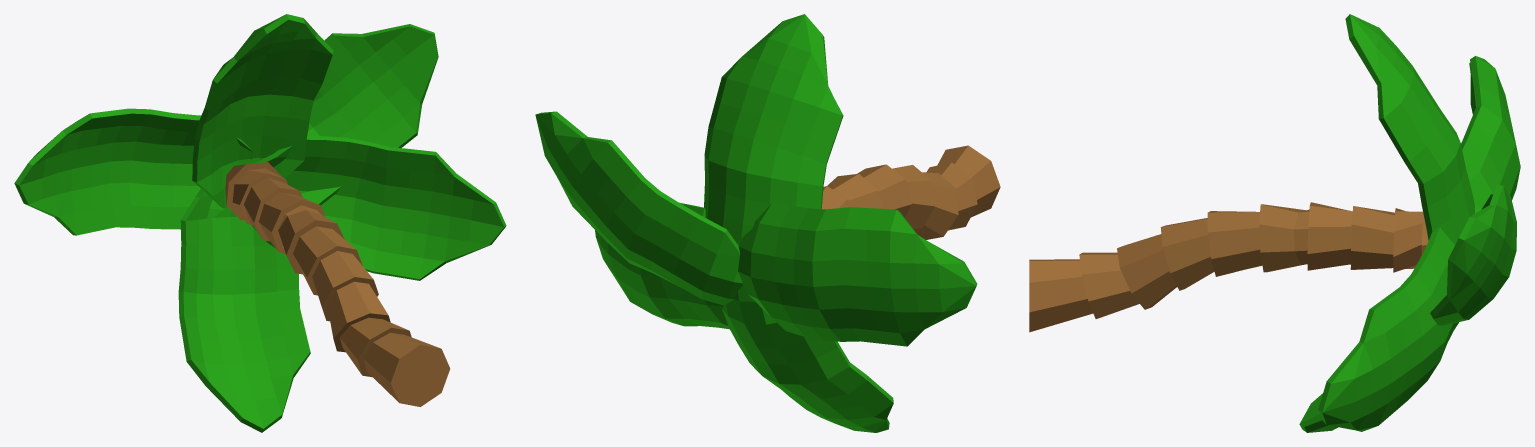
File: palmeira004.fbx
The picture shows the model from 3 angles, left to right: view 1: azimuth 30°, elevation 25°; view 2: azimuth 150°, elevation 25°; view 3: azimuth 270°, elevation 25°; orthographic projection. The views are drawn at different scales.
Parts seen in each view (by area): view 1: Folha; view 2: Folha; view 3: Folha.
Boxes of the visible parts, box(x1,y1,x2,y2) form: Folha: box(14, 14, 506, 432); Folha: box(535, 14, 1000, 432); Folha: box(1029, 14, 1520, 432).
Bounding box in the file's own units: 651 × 577 × 583.
